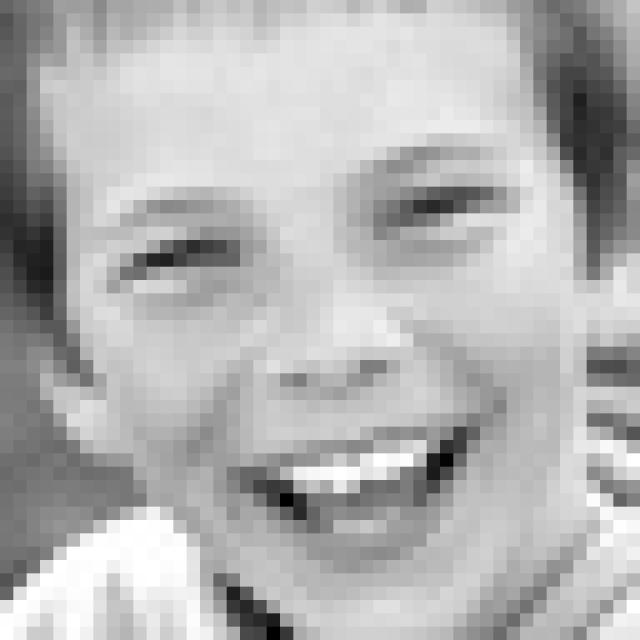happy: (102, 137, 539, 572)
